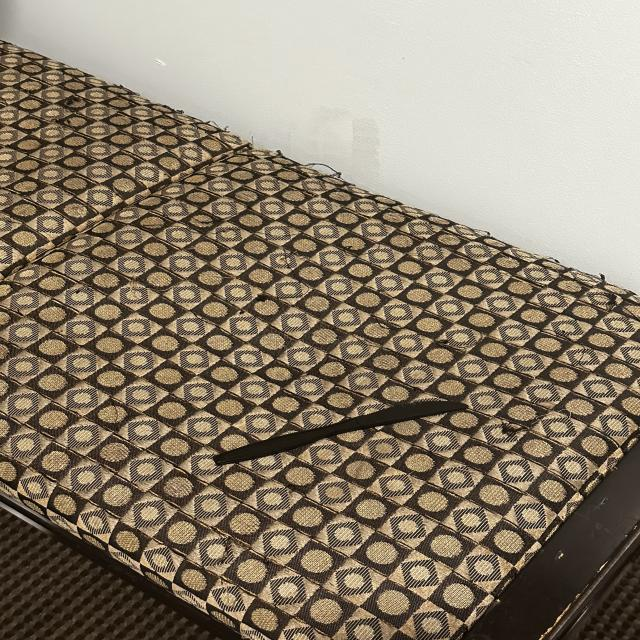knife: (165, 381, 500, 476)
